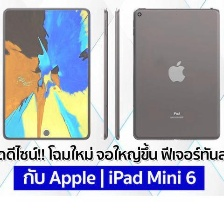phone: (0, 3, 93, 142), (128, 6, 221, 142), (112, 6, 122, 141), (101, 6, 109, 142)
